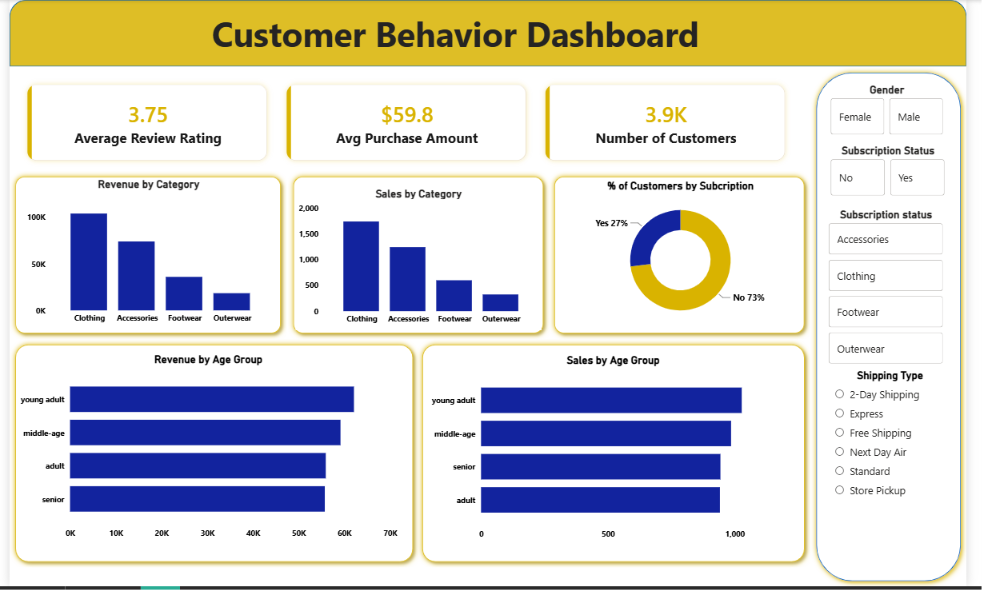

Layout of this report page (visuals, bound fields, positions):
{"tool":"powerbi","page":{"name":"Page 1","canvas":[1500,920],"ordinal":0},"visuals":[{"type":"cardVisual","fields":{"Data":["public customer_behavior.Average Review Rating","public customer_behavior.Avg Purchase Amount","public customer_behavior.Number of Customers"]},"box":[0,104.5,1246.3,175.3],"z":0},{"type":"shape","box":[0,0,1500.3,104.5],"z":1000},{"type":"textbox","box":[0,11,1280.3,93.3],"z":2000},{"type":"shape","box":[0,268.5,434.2,263.7],"z":4001},{"type":"clusteredColumnChart","title":"Revenue by Category ","fields":{"Y":["Sum(public customer_behavior.purchase_amount)"],"Category":["public customer_behavior.category"]},"box":[22.5,279.8,392.4,238],"z":4004},{"type":"shape","box":[435.8,268.5,410.1,263.7],"z":4007},{"type":"shape","box":[845.8,268.5,410.1,263.7],"z":4008},{"type":"clusteredColumnChart","title":"Sales by Category ","fields":{"Y":["CountNonNull(public customer_behavior.customer_id)"],"Category":["public customer_behavior.category"]},"box":[448.7,292.7,385.9,225.1],"z":4009},{"type":"donutChart","title":"% of Customers by Subcription","fields":{"Category":["public customer_behavior.subscription_status"],"Y":["CountNonNull(public customer_behavior.customer_id)"]},"box":[866.7,281.4,369.9,236.4],"z":4010},{"type":"shape","box":[1255.9,104.5,244.4,815.3],"z":4011},{"type":"advancedSlicerVisual","title":"Subscription status","fields":{"Values":["public customer_behavior.category"]},"box":[1280,326.4,189.8,252.5],"z":4014},{"type":"advancedSlicerVisual","title":"Gender","fields":{"Values":["public customer_behavior.gender"]},"box":[1283.2,130.3,186.5,86.8],"z":4015},{"type":"advancedSlicerVisual","title":"Subscription Status ","fields":{"Values":["public customer_behavior.subscription_status"]},"box":[1283.2,225.1,189.8,86.8],"z":4016},{"type":"listSlicer","title":"Shipping Type","fields":{"Values":["public customer_behavior.shipping_type"]},"box":[1286.5,578.9,186.5,221.9],"z":4017},{"type":"shape","box":[0,532.3,641.6,358.6],"z":4019},{"type":"clusteredBarChart","title":"Revenue by Age Group","fields":{"Category":["public customer_behavior.age_group"],"Y":["Sum(public customer_behavior.purchase_amount)"]},"box":[11.3,553.2,601.4,300.7],"z":4020},{"type":"shape","box":[638.4,532.3,617.5,358.6],"z":4021},{"type":"clusteredBarChart","title":"Sales by Age Group","fields":{"Category":["public customer_behavior.age_group"],"Y":["CountNonNull(public customer_behavior.customer_id)"]},"box":[656.1,554.8,582.1,300.7],"z":4022}]}

Visuals, with their boxes in screenshot pixels (x1, y1, x2, y2), scaled from the page's 1500x920 canvas onto the 982x590 screenshot:
cardVisual - public customer_behavior.Average Review Rating x public customer_behavior.Avg Purchase Amount: 0:67:816:179
shape: 0:0:981:67
textbox: 0:7:838:67
shape: 0:172:284:341
"Revenue by Category " clusteredColumnChart: 15:179:272:332
shape: 285:172:554:341
shape: 554:172:822:341
"Sales by Category " clusteredColumnChart: 294:188:546:332
"% of Customers by Subcription" donutChart: 567:180:810:332
shape: 822:67:981:589
"Subscription status" advancedSlicerVisual: 838:209:962:371
"Gender" advancedSlicerVisual: 840:84:962:139
"Subscription Status " advancedSlicerVisual: 840:144:964:200
"Shipping Type" listSlicer: 842:371:964:514
shape: 0:341:420:571
"Revenue by Age Group" clusteredBarChart: 7:355:401:548
shape: 418:341:822:571
"Sales by Age Group" clusteredBarChart: 430:356:811:549
